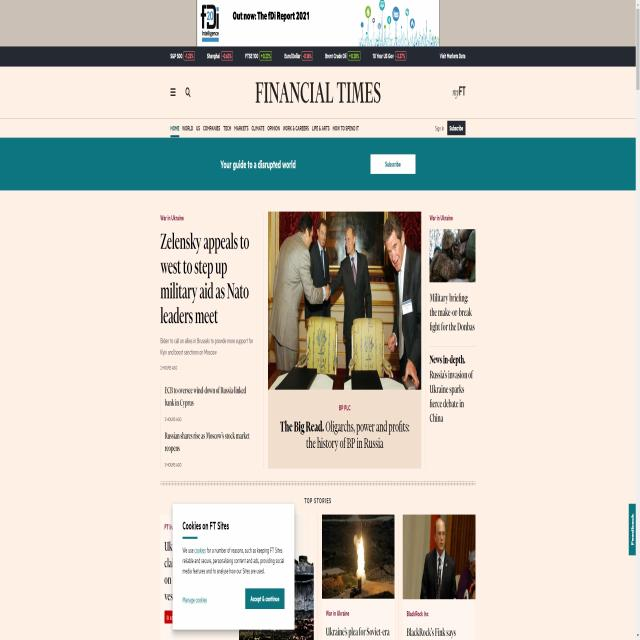tab-bar: (169, 118, 361, 136)
